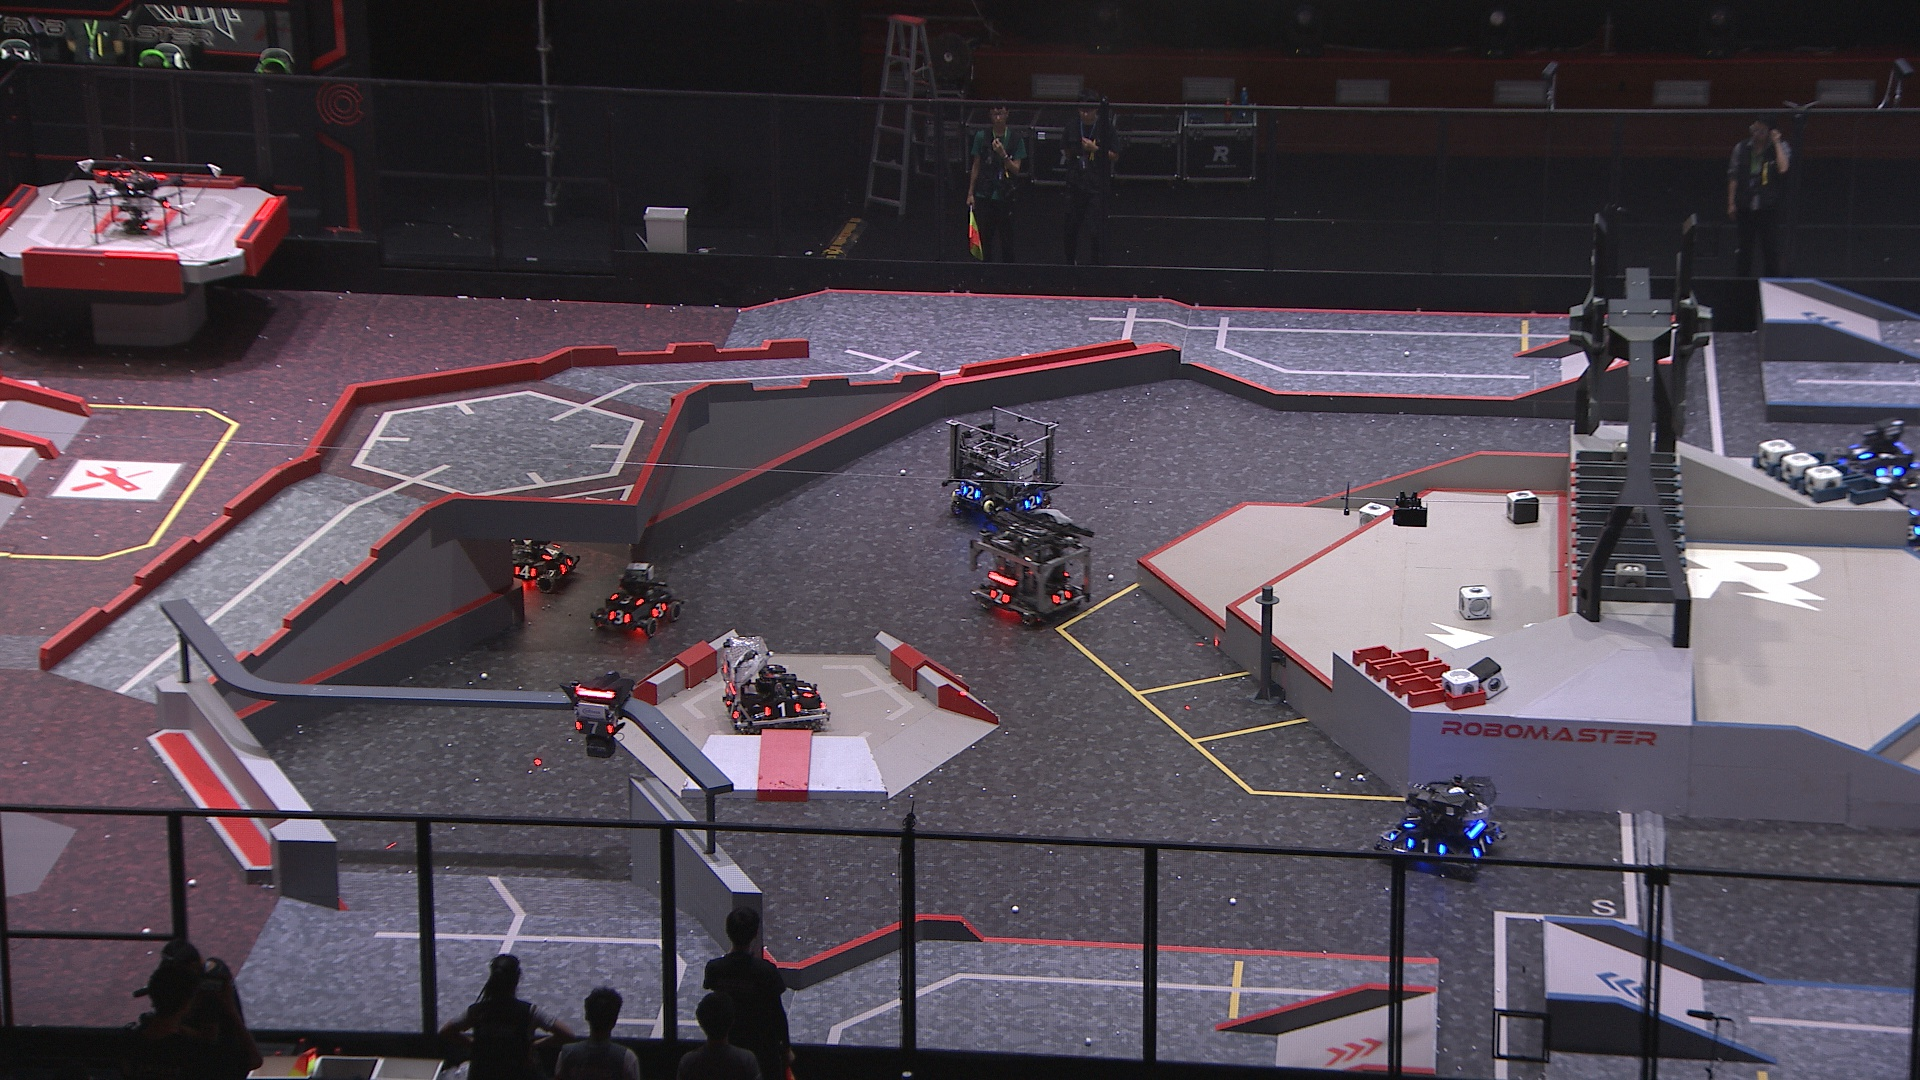armor: (1404, 836, 1447, 856), (574, 717, 615, 737), (765, 702, 804, 719), (1468, 836, 1493, 858), (607, 591, 645, 605), (607, 608, 633, 626), (1847, 443, 1874, 462), (647, 599, 670, 618), (794, 680, 816, 700), (1876, 465, 1907, 480), (986, 588, 1011, 605), (1022, 495, 1044, 513), (1400, 812, 1423, 831), (1050, 589, 1073, 607), (957, 483, 981, 500), (513, 564, 538, 580), (556, 556, 575, 578), (727, 698, 741, 719), (542, 545, 560, 560), (1907, 522, 1920, 541)
car: (942, 404, 1058, 524), (969, 513, 1096, 622), (1375, 774, 1505, 878), (719, 633, 829, 737), (589, 564, 684, 641), (1836, 422, 1920, 493), (491, 529, 583, 591), (1846, 485, 1920, 555)
watcher: (564, 673, 633, 757)
